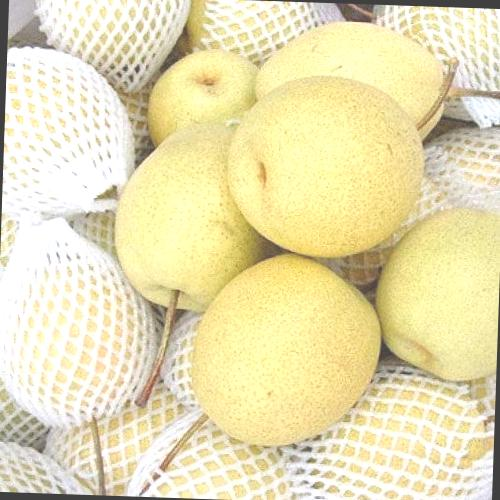Pear Unripe: (291, 67, 443, 245)
